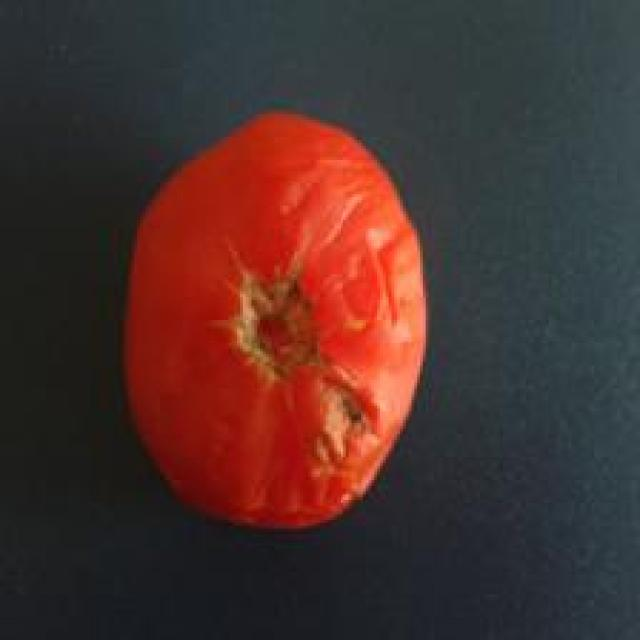overripe: (114, 107, 436, 534)
